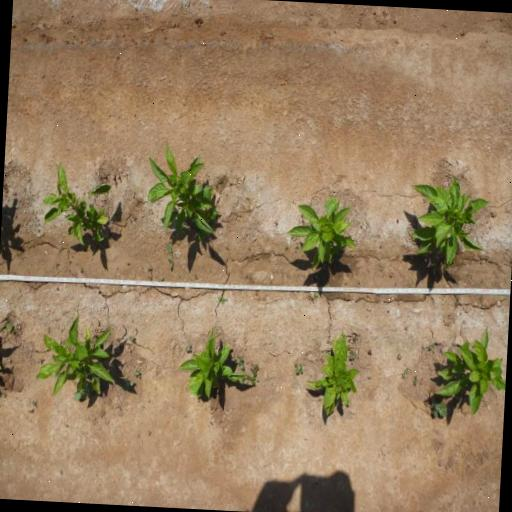plant: (406, 171, 493, 277), (142, 138, 224, 242), (36, 158, 116, 249), (38, 313, 116, 398), (434, 324, 506, 416), (286, 190, 358, 276), (304, 331, 362, 421), (178, 324, 243, 401)
weed: (243, 362, 262, 388), (73, 383, 94, 401), (430, 402, 448, 421), (164, 240, 176, 266), (119, 377, 134, 392), (307, 291, 320, 304), (293, 362, 304, 376), (6, 322, 16, 336), (216, 296, 230, 306), (234, 354, 244, 365), (401, 367, 410, 379), (348, 350, 358, 360), (132, 369, 140, 380), (396, 352, 404, 362), (184, 342, 191, 352), (412, 375, 418, 386), (128, 335, 135, 342), (427, 344, 434, 351), (388, 270, 394, 278), (158, 276, 164, 283), (238, 364, 244, 370)
